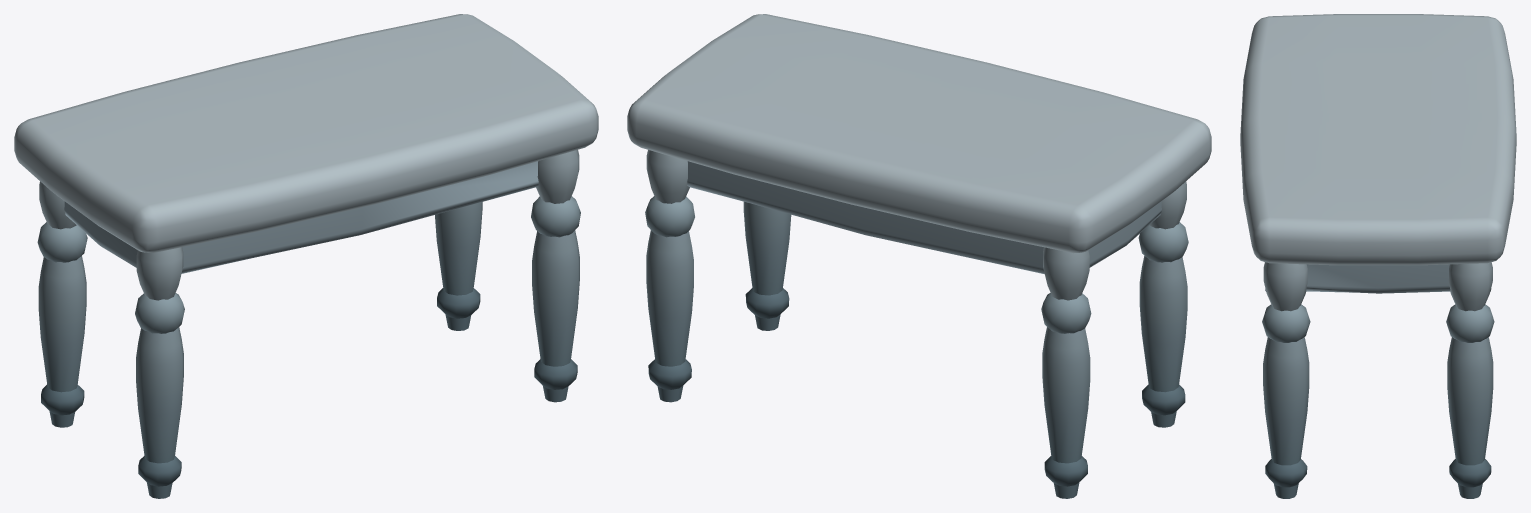
File: Kitchen_Table_18.glb
3 views of the same model, side by side, from view 1: azimuth 30°, elevation 25°; view 2: azimuth 150°, elevation 25°; view 3: azimuth 270°, elevation 25° (orthographic). The views are drawn at different scales.
Parts seen in each view (by area): view 1: Kitchen_Table_18; view 2: Kitchen_Table_18; view 3: Kitchen_Table_18.
Part boxes in pixels (x1,y1,x2,y2): Kitchen_Table_18: (14, 14, 598, 498); Kitchen_Table_18: (627, 14, 1211, 498); Kitchen_Table_18: (1240, 14, 1516, 498).
Size of the model in its own units: 1.19 by 0.7193 by 0.632.
1 material, 1 textured.
